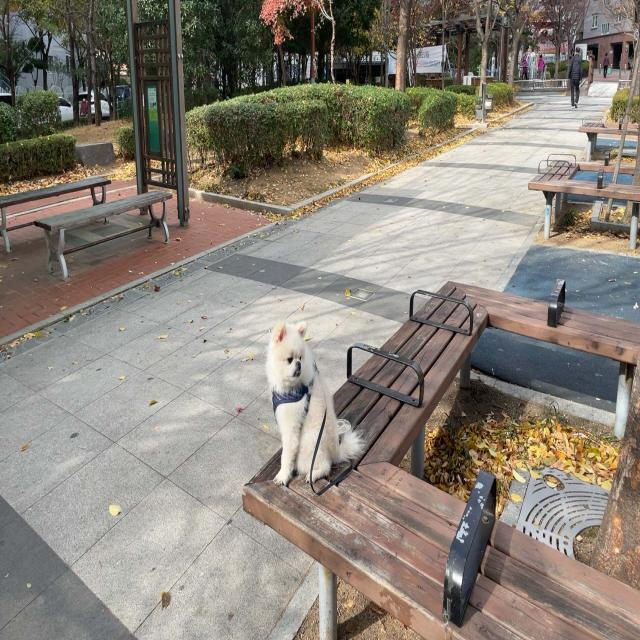Dog: (266, 319, 366, 486)
